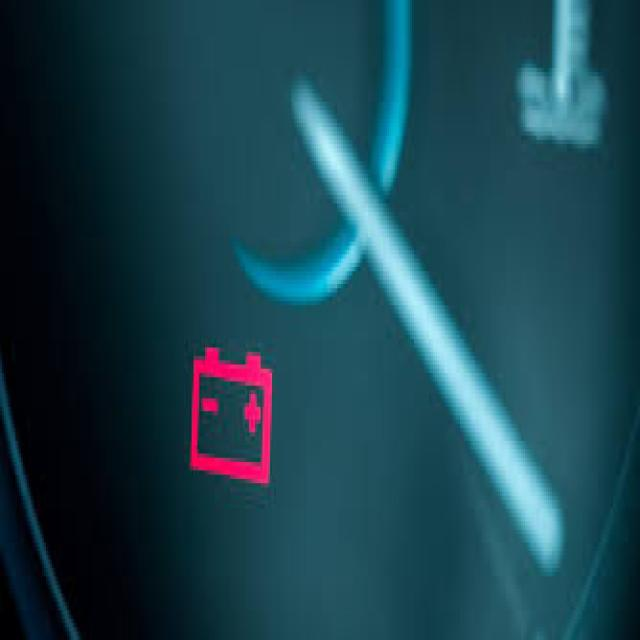kontrolka: (179, 335, 280, 498)
